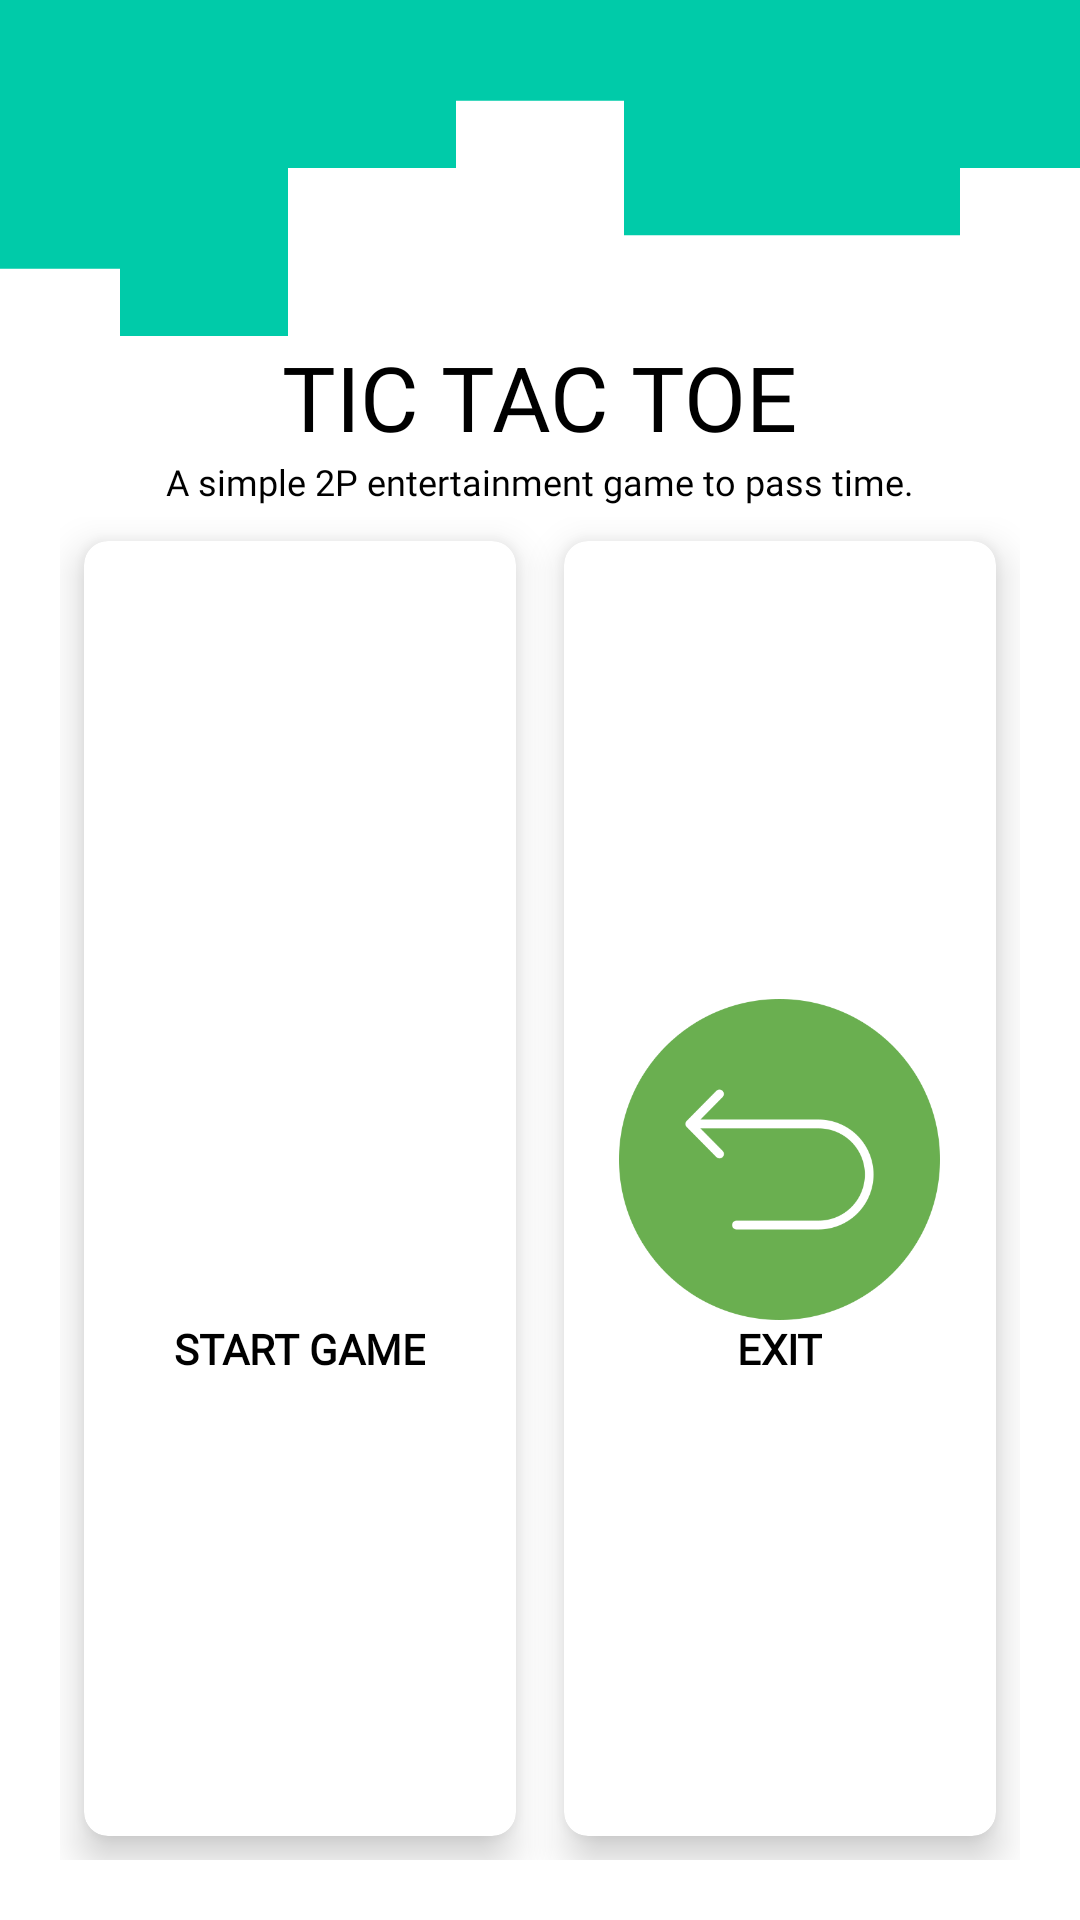

Point at icon controls on the screen. Image size 1080px×1920px, points as (x=x, y=y).
back: (x=779, y=1159)
